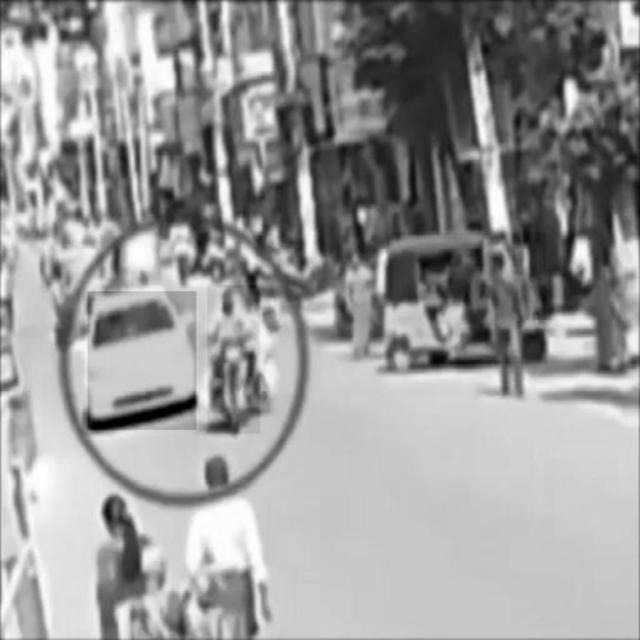vehicle: (387, 233, 547, 364), (88, 291, 196, 429), (208, 285, 260, 433)
